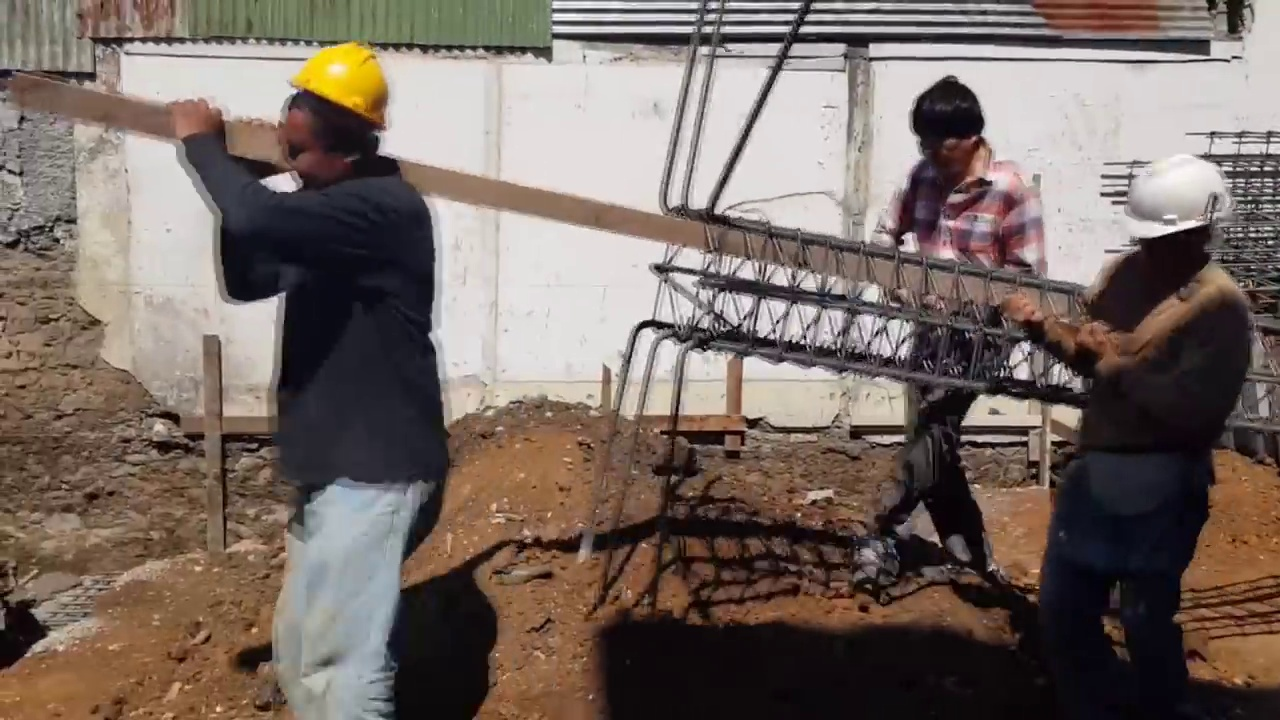helmet: (1130, 148, 1242, 237), (283, 42, 386, 128)
helmet-off: (910, 72, 995, 181)
helmet-on: (276, 39, 396, 202), (1117, 144, 1237, 288)
person: (221, 36, 463, 705), (1026, 132, 1251, 716), (850, 89, 1040, 598)
